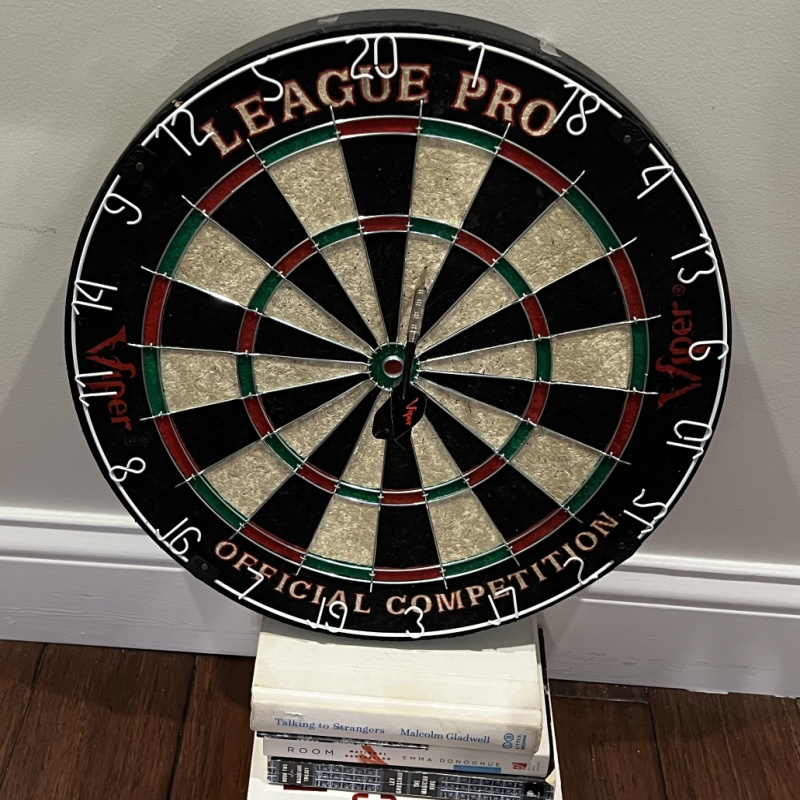dart: (410, 266, 435, 307)
eleven: (73, 368, 120, 406)
six: (686, 337, 734, 362)
three: (399, 605, 431, 638)
twenty: (344, 31, 403, 80)
